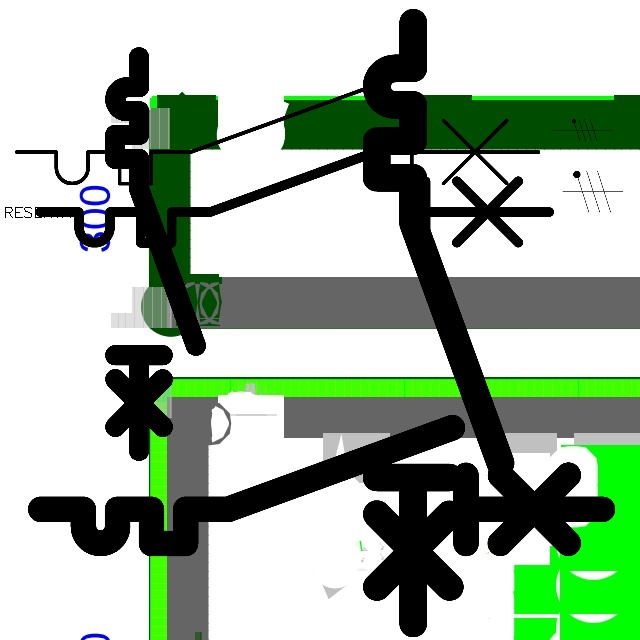interruptor_termomagnetico: (361, 7, 515, 638), (26, 413, 617, 558), (3, 63, 552, 197), (27, 125, 562, 256), (105, 47, 206, 461)
